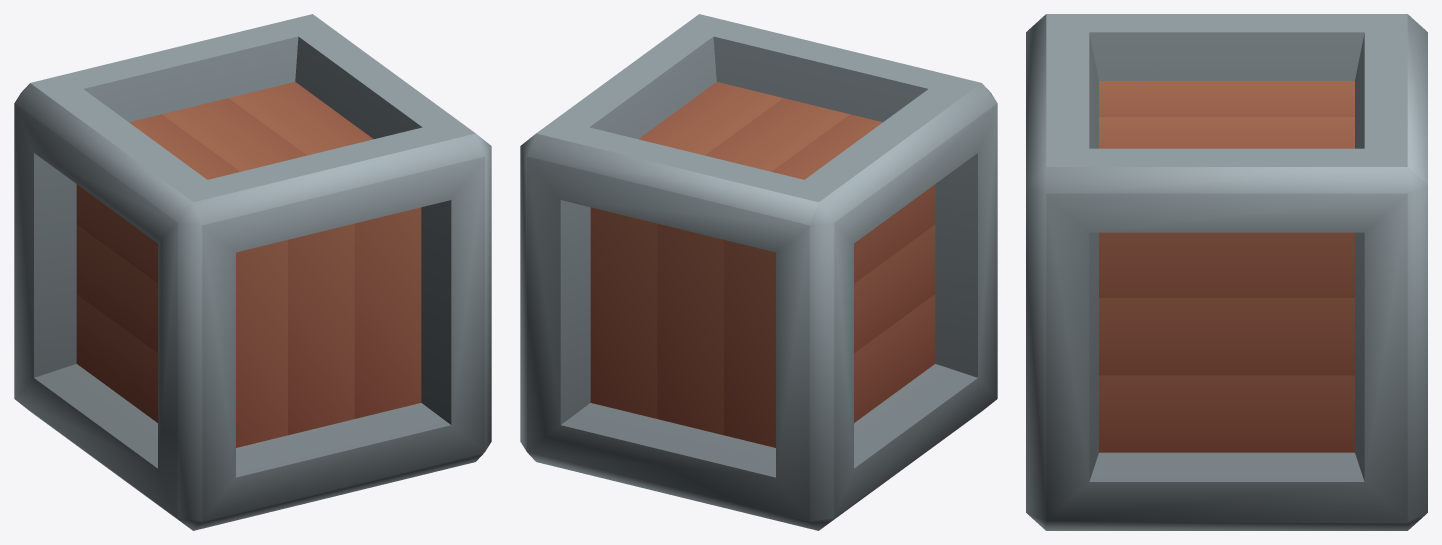
Rendered from box_large.glb.
The picture shows the model from 3 angles, left to right: view 1: azimuth 30°, elevation 25°; view 2: azimuth 150°, elevation 25°; view 3: azimuth 270°, elevation 25°; orthographic projection. The views are drawn at different scales.
Visible parts, largest first — view 1: box_large; view 2: box_large; view 3: box_large.
Part boxes in pixels (x1,y1,x2,y2): box_large: (14, 14, 491, 530); box_large: (520, 14, 997, 530); box_large: (1026, 14, 1427, 530).
Size of the model in its own units: 1.5 by 1.5 by 1.5.
1 material, 1 textured.
